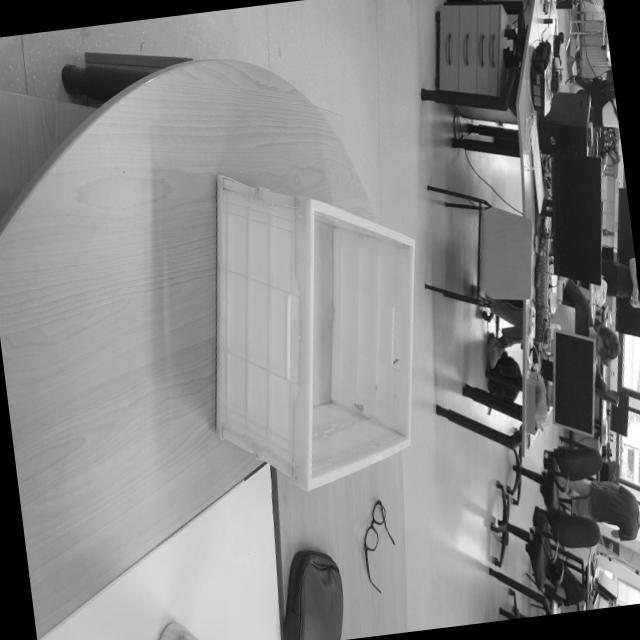box: (178, 135, 448, 509)
